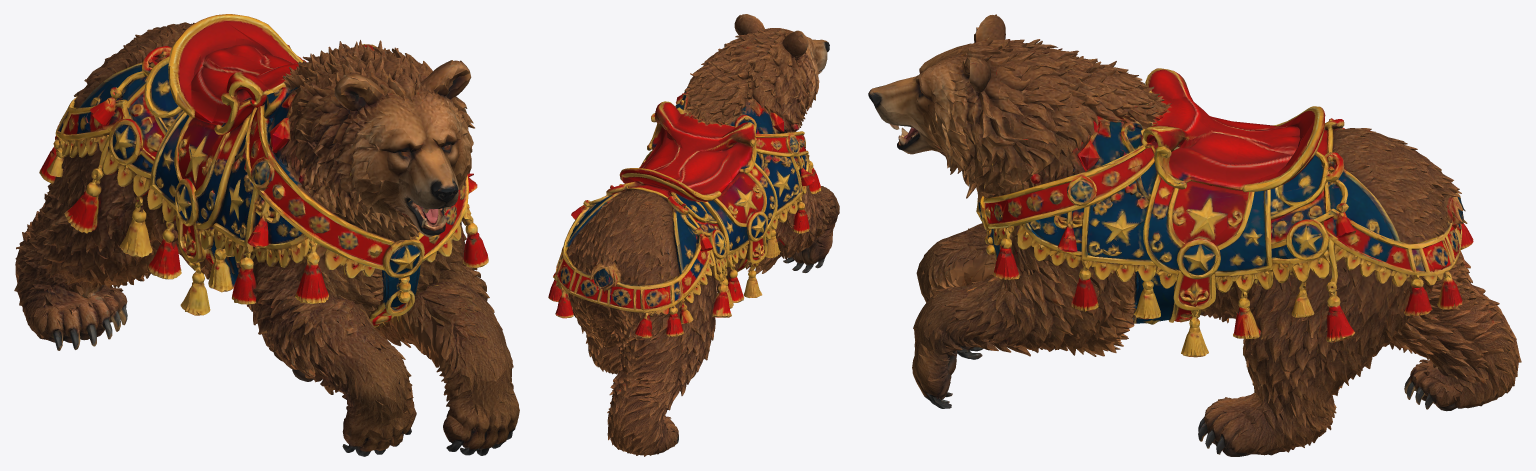
File: grizzly.glb
3 renders of one model, left to right at view 1: azimuth 30°, elevation 25°; view 2: azimuth 150°, elevation 25°; view 3: azimuth 270°, elevation 25°, orthographic. The views are drawn at different scales.
Size of the model in its own units: 0.8145 by 1.27 by 1.9.
1 material, 1 textured.
